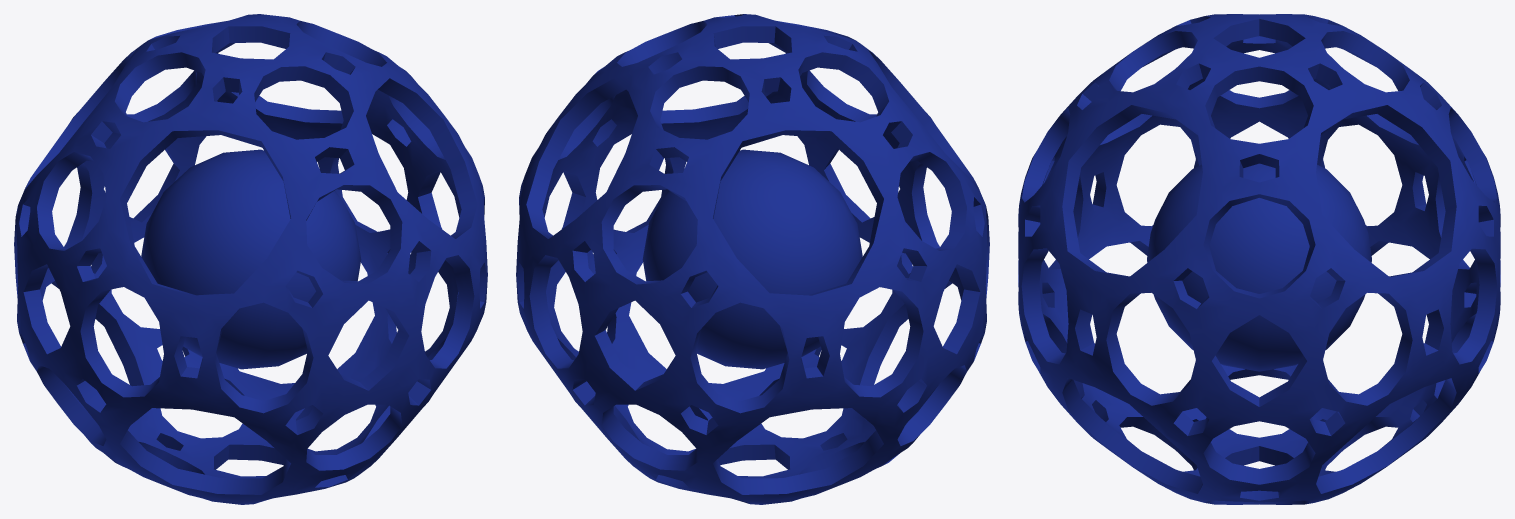
Rendered from testworld_radiolaria2.FBX.
3 renders of one model, left to right at view 1: azimuth 30°, elevation 25°; view 2: azimuth 150°, elevation 25°; view 3: azimuth 270°, elevation 25°, orthographic. The views are drawn at different scales.
Parts seen in each view (by area): view 1: shell, core; view 2: shell, core; view 3: shell, core.
Boxes of the visible parts, box(x1,y1,x2,y2) form: shell: box(14, 14, 487, 504); core: box(141, 149, 361, 369); shell: box(516, 14, 989, 504); core: box(642, 149, 862, 369); shell: box(1018, 14, 1500, 504); core: box(1147, 163, 1371, 371).
Bounding box in the file's own units: 1652 × 1675 × 1652.
